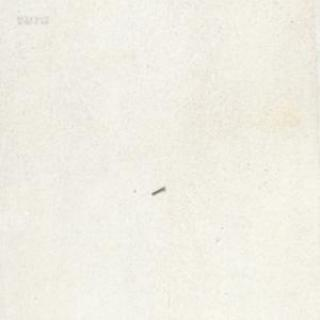Bolttrack_idkeyframe: (150, 184, 164, 195)
